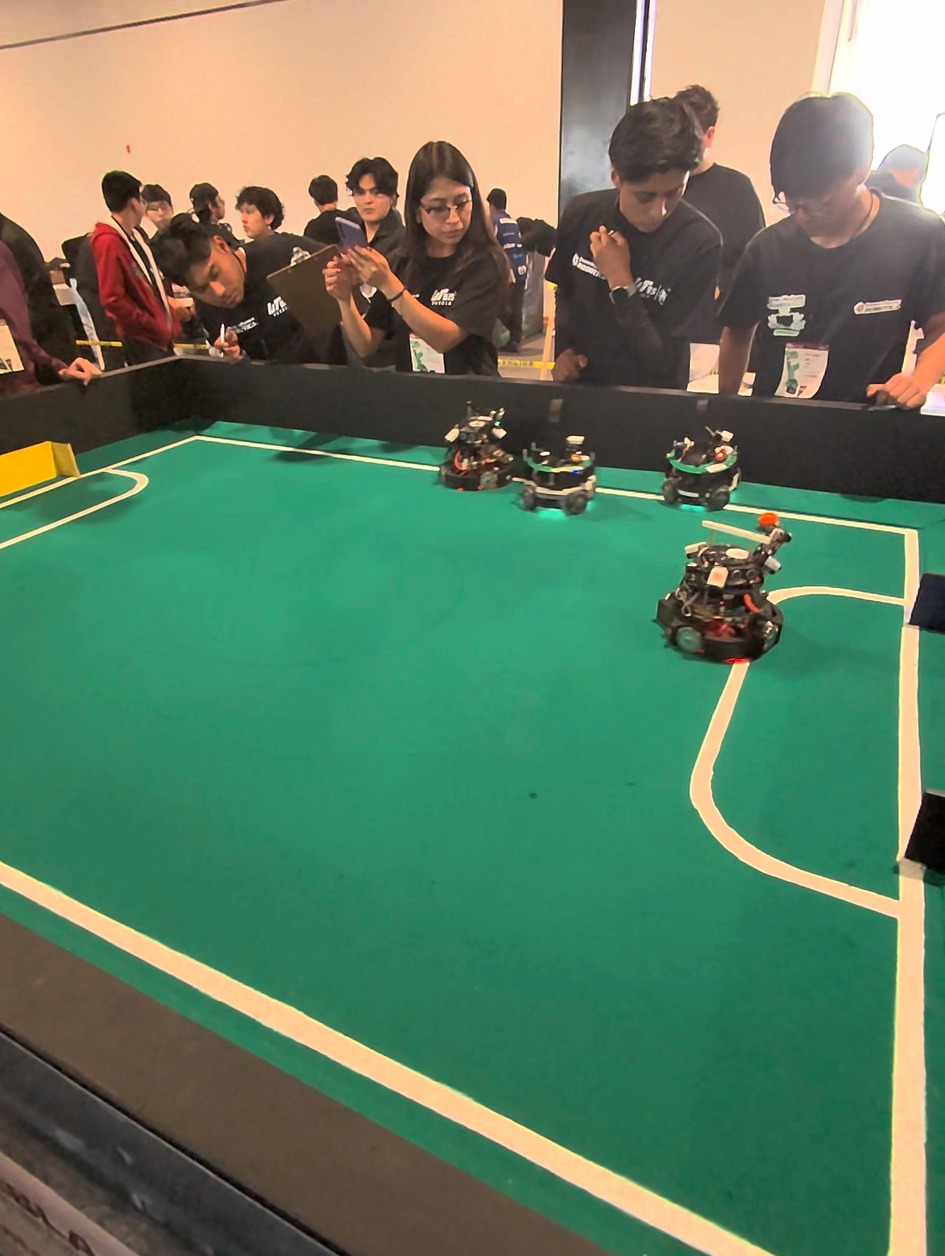Robot: (652, 511, 792, 664), (654, 392, 746, 512), (525, 394, 592, 514), (455, 387, 510, 485)
pelota: (757, 512, 777, 529)
